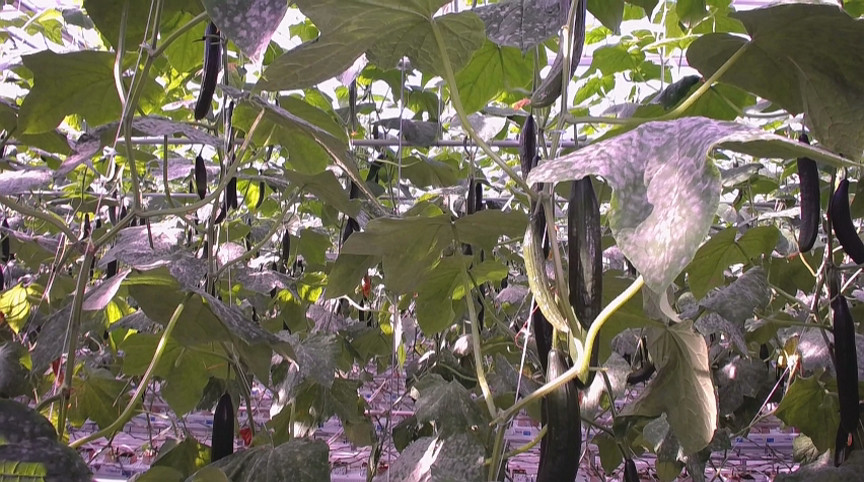cucumber: (529, 1, 589, 107), (523, 218, 569, 335), (541, 352, 582, 481), (570, 178, 600, 326), (832, 297, 861, 432), (829, 179, 864, 263), (796, 133, 819, 254), (196, 22, 218, 119), (210, 394, 234, 460)
